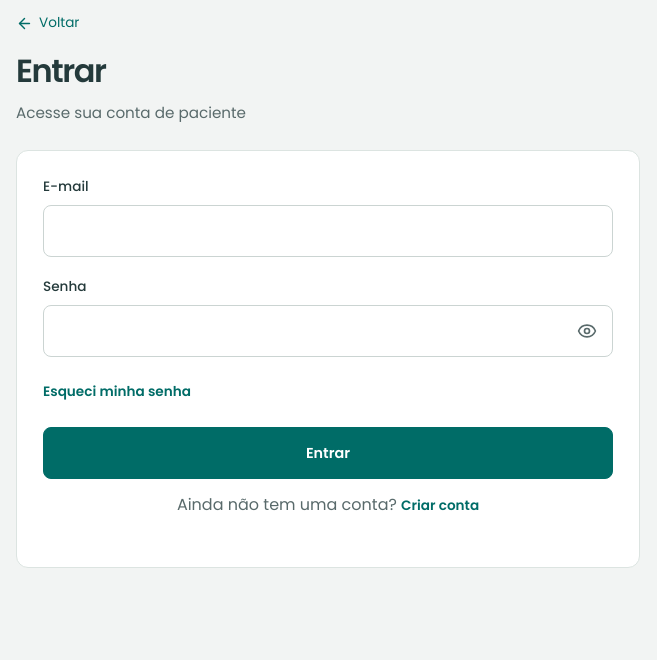
Test: mostra a falha do serviço dentro do formulário e preserva os campos
Type "paciente@example.com" into the field labelled "E-mail".
click(328, 231); type("paciente@example.com")  # box [43,205,613,257]
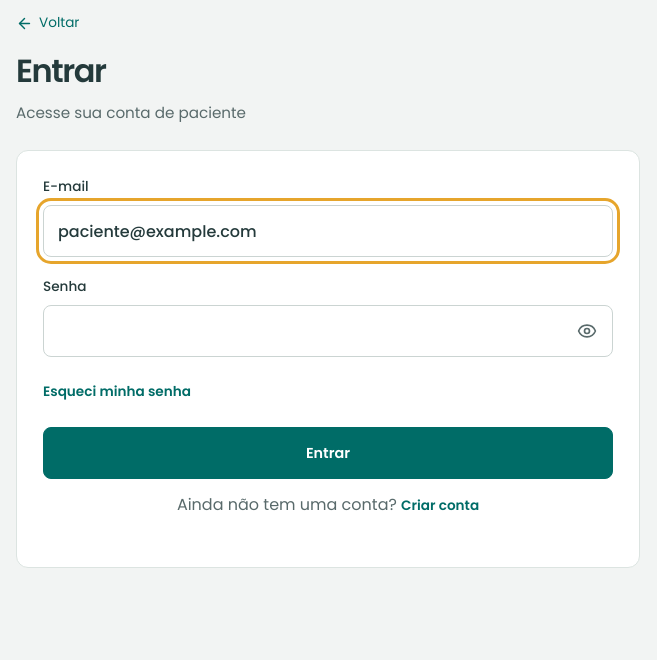
Type "senha123" into the password field labelled "Senha".
click(328, 331); type("senha123")  # box [43,305,613,357]
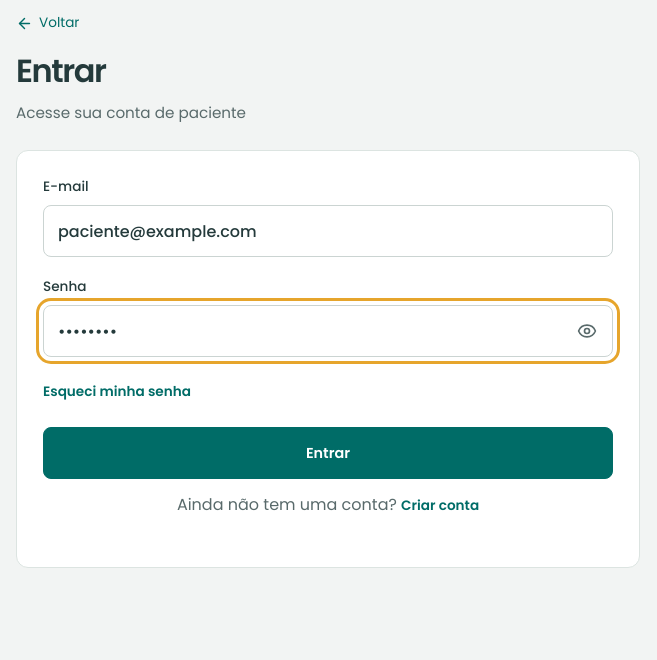
Click the button "Entrar".
click(328, 453)  # box [43,427,613,479]
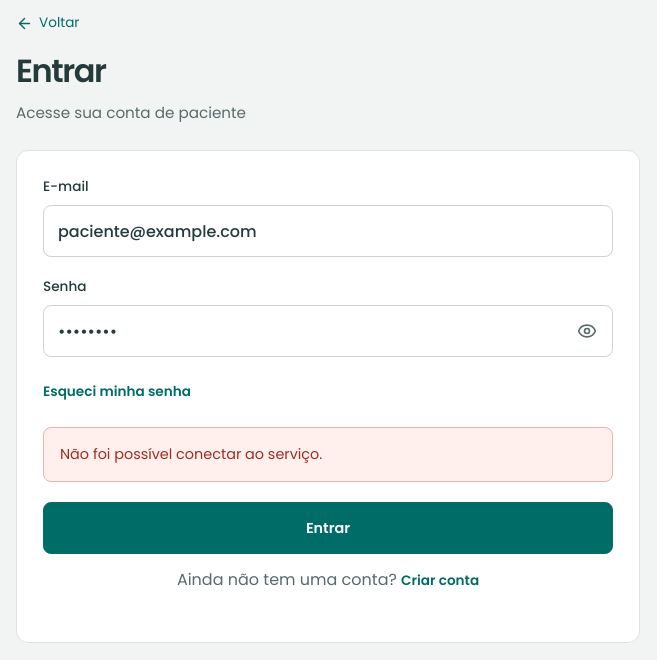
Expected: the button "Entrar" is enabled, [43,502,613,554]
Result: the message reads "Não foi possível conectar ao serviço." at [60,444,322,464]
